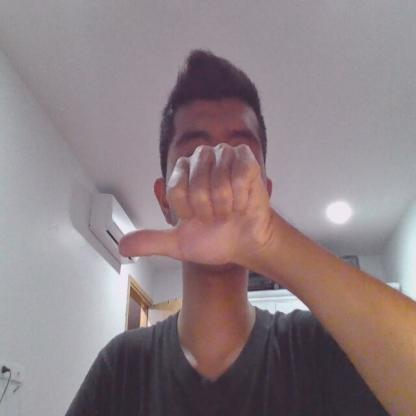right: (118, 143, 267, 277)
